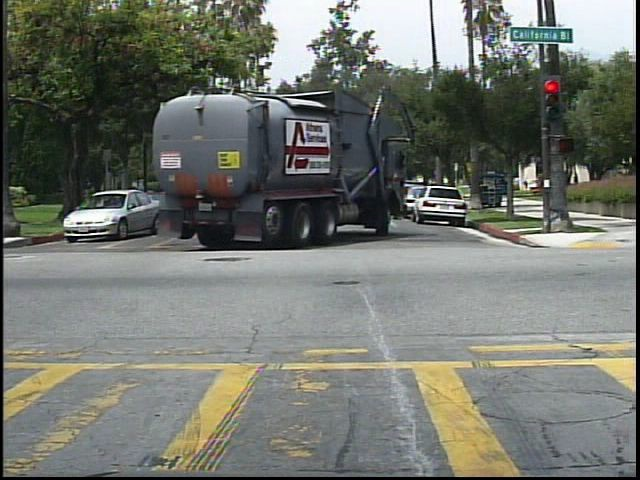person: (567, 166, 585, 197), (521, 174, 534, 193)
